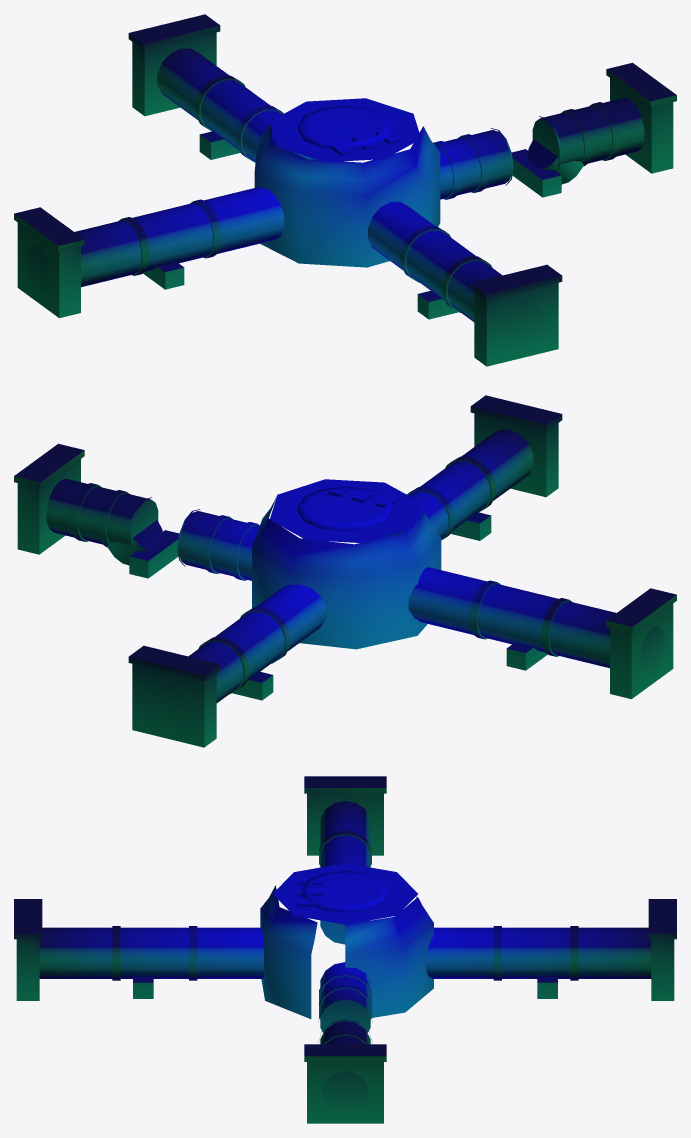
The model's file is fourwaypipe_damaged.glb.
3 views of the same model, one above another, from view 1: azimuth 30°, elevation 25°; view 2: azimuth 150°, elevation 25°; view 3: azimuth 270°, elevation 25° (orthographic). The views are drawn at different scales.
Parts seen in each view (by area): view 1: lod0; view 2: lod0; view 3: lod0.
Boxes of the visible parts, left/top/right/bottom form: lod0: left=14, top=14, right=676, bottom=366; lod0: left=14, top=395, right=676, bottom=747; lod0: left=14, top=776, right=676, bottom=1123.
Size of what is drawn, in the model's own units: 25.8 by 4.32 by 25.8.
